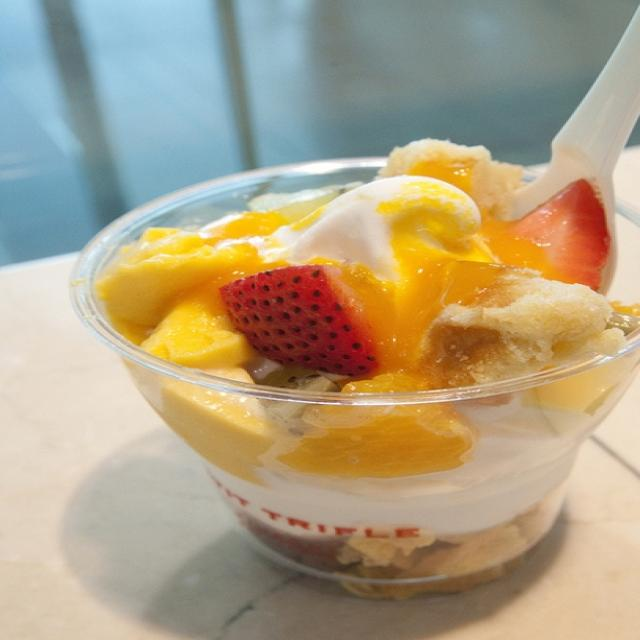蛋糕甜品: (38, 31, 629, 598)
